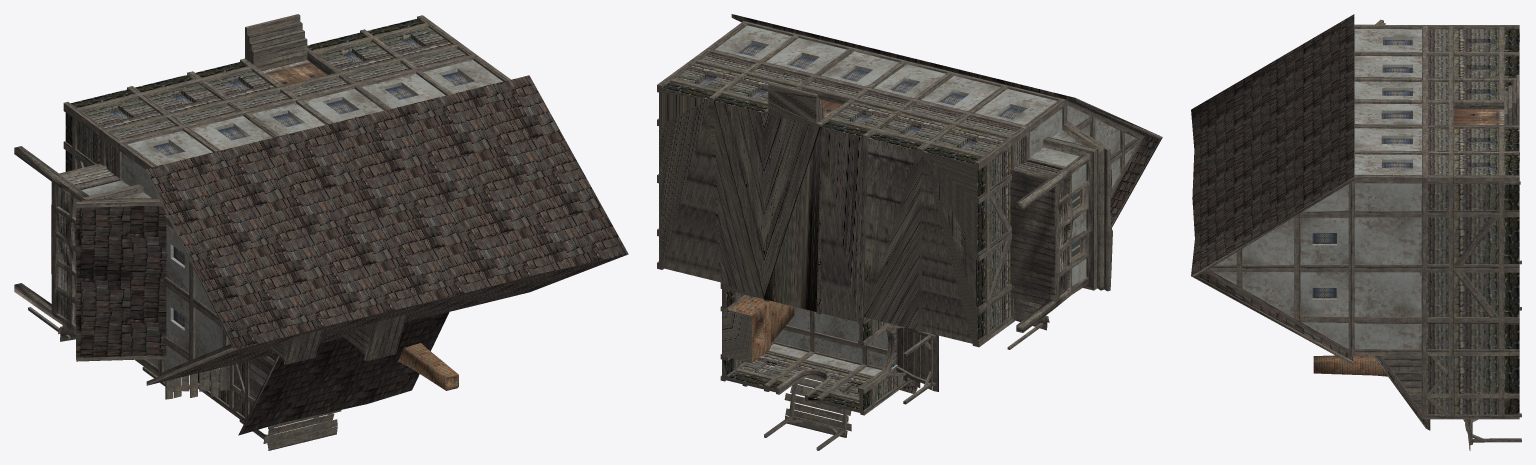
File: blacksmith_house.obj
The picture shows the model from 3 angles, left to right: view 1: azimuth 30°, elevation 25°; view 2: azimuth 150°, elevation 25°; view 3: azimuth 270°, elevation 25°; orthographic projection. The views are drawn at different scales.
Parts seen in each view (by area): view 1: object; view 2: object; view 3: object.
Boxes of the visible parts, x1,y1,x2,y2 form: object: (14, 14, 628, 450); object: (657, 14, 1162, 450); object: (1191, 14, 1521, 450).
Bounding box in the file's own units: 645 × 556 × 477.
